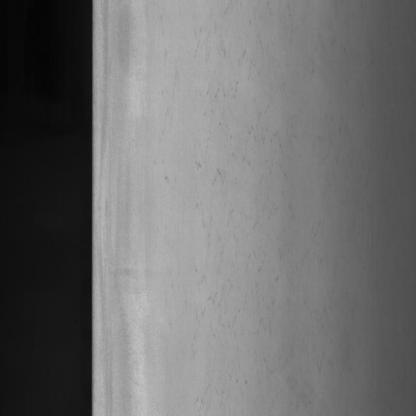silk_spot: (178, 23, 287, 281)
